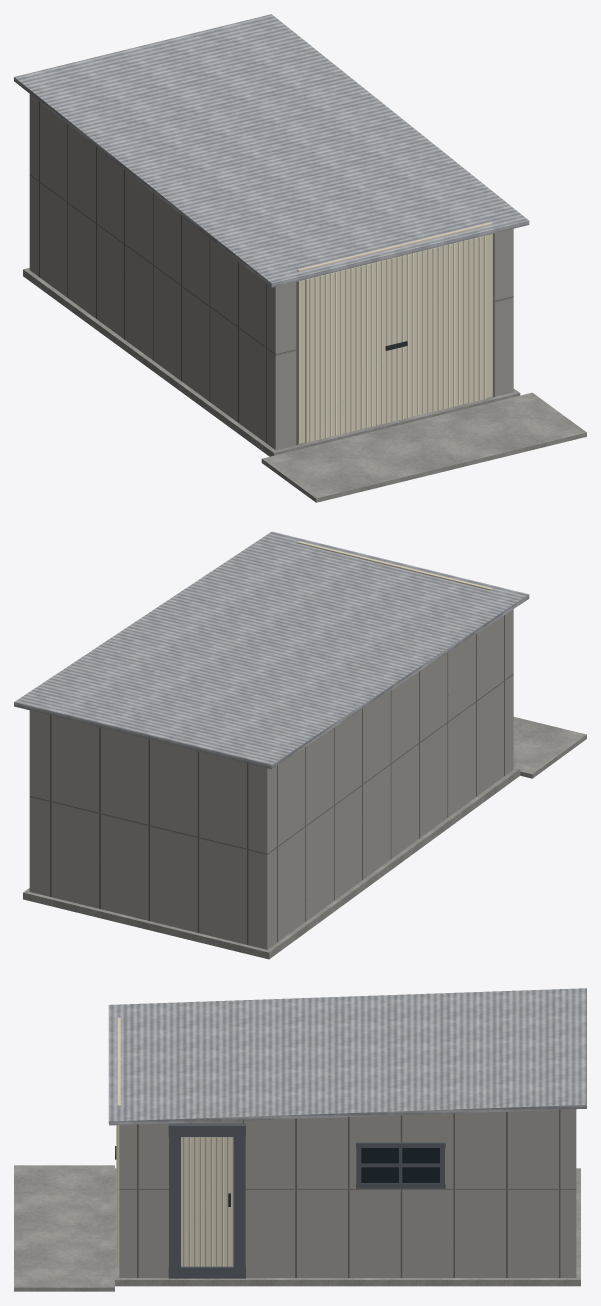
Rendered from concrete-panel-garage.glb.
The picture shows the model from 3 angles, top to bottom: view 1: azimuth 30°, elevation 25°; view 2: azimuth 150°, elevation 25°; view 3: azimuth 270°, elevation 25°; orthographic projection. The views are drawn at different scales.
Parts seen in each view (by area): view 1: Concrete_Panel_Garage; view 2: Concrete_Panel_Garage; view 3: Concrete_Panel_Garage.
Boxes of the visible parts, x1,y1,x2,y2 form: Concrete_Panel_Garage: (14, 14, 586, 502); Concrete_Panel_Garage: (14, 531, 586, 959); Concrete_Panel_Garage: (14, 988, 586, 1291).
Size of the model in its own units: 3.3 by 2.31 by 6.52.
Materials: 8 (4 with a texture image).
